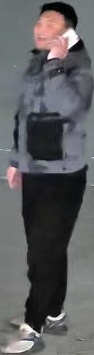phone: (23, 7, 92, 114)
